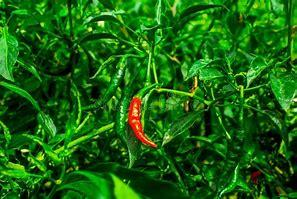Buah Cabai Sehat: (129, 96, 159, 149)
